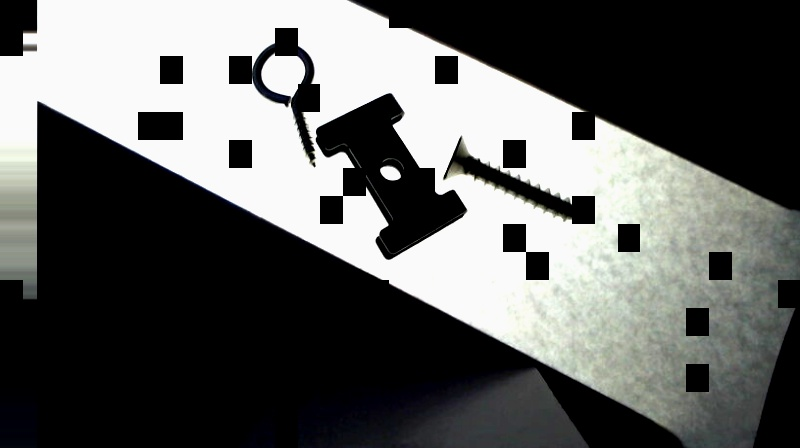O001: (248, 39, 318, 171)
O002: (313, 90, 466, 262)
S001: (443, 136, 584, 221)
